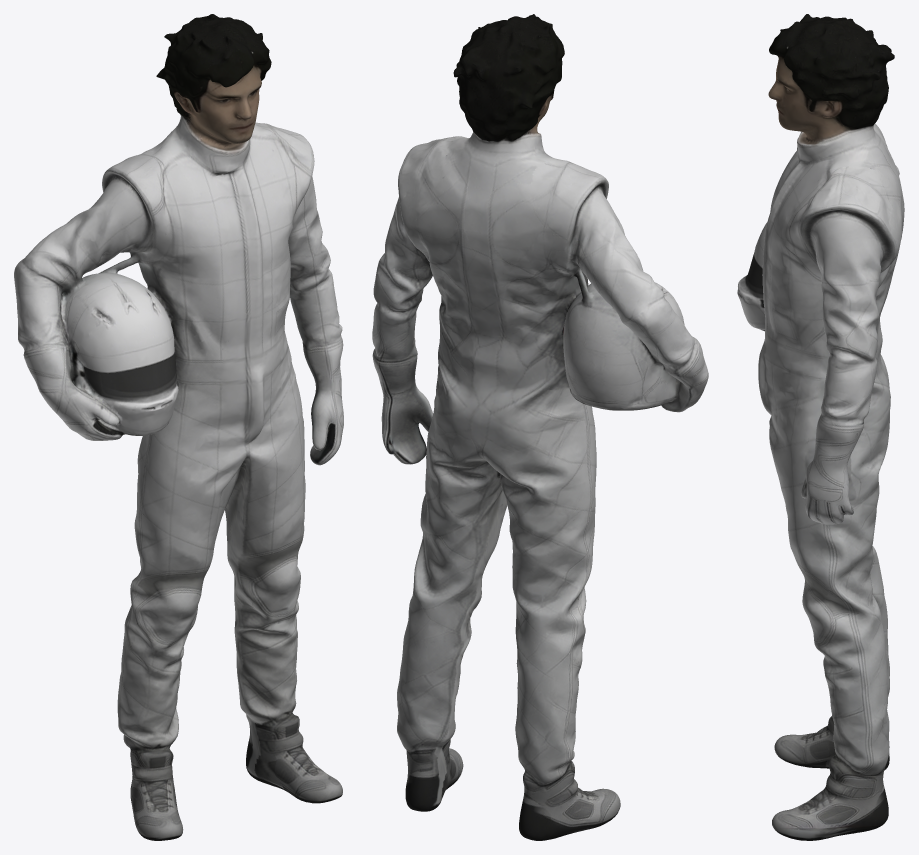
File: Meshy_AI_White_Velocity_1006175448_texture.glb
The picture shows the model from 3 angles, left to right: view 1: azimuth 30°, elevation 25°; view 2: azimuth 150°, elevation 25°; view 3: azimuth 270°, elevation 25°; orthographic projection. The views are drawn at different scales.
Bounding box in the file's own units: 0.7985 × 1.9 × 0.3722.
Materials: 1 (1 with a texture image).
